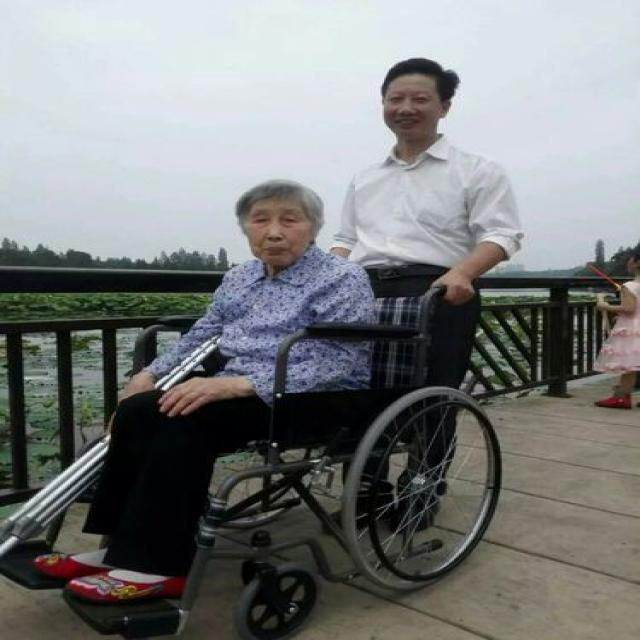wheelchairs: (0, 275, 514, 640)
